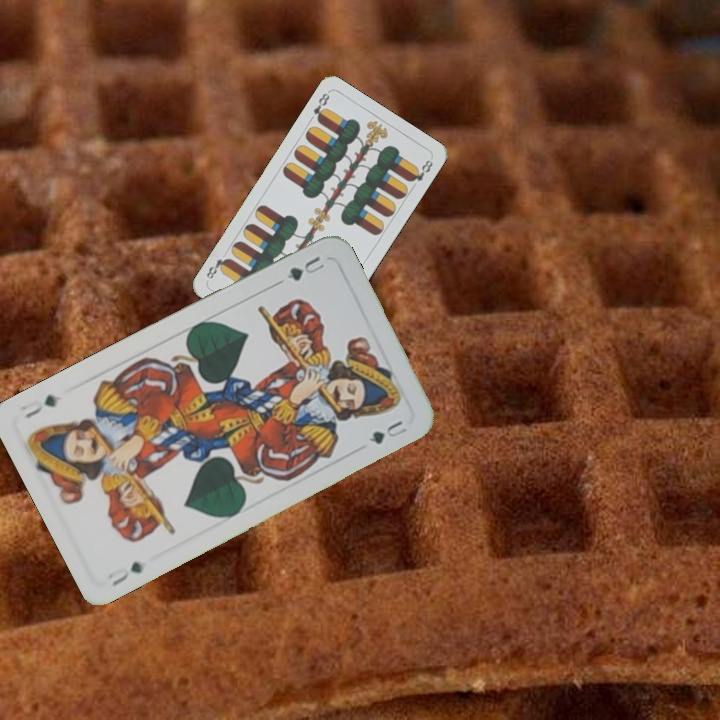E8: (309, 89, 332, 125)
GU: (282, 252, 327, 284), (105, 557, 147, 589)
